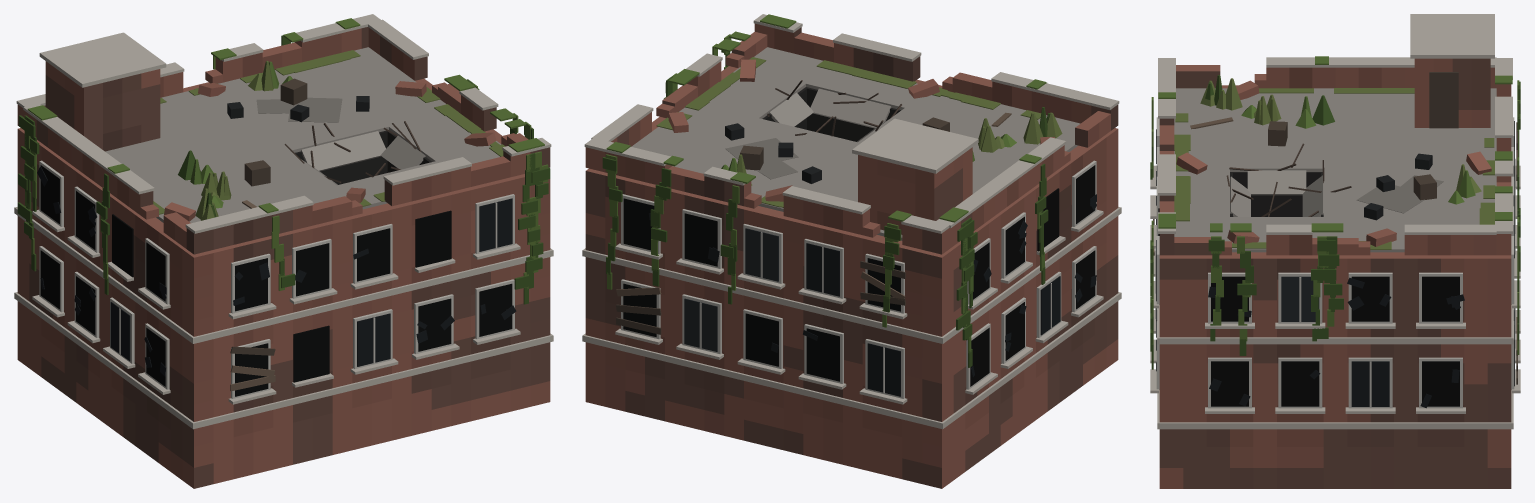
Rendered from building_brick_2f.glb.
3 renders of one model, left to right at view 1: azimuth 30°, elevation 25°; view 2: azimuth 150°, elevation 25°; view 3: azimuth 270°, elevation 25°, orthographic.
Parts seen in each view (by area): view 1: building_brick_2f; view 2: building_brick_2f; view 3: building_brick_2f.
Boxes of the visible parts, <box> form: building_brick_2f: <box>14,14,553,488</box>; building_brick_2f: <box>582,14,1121,488</box>; building_brick_2f: <box>1150,14,1520,488</box>.
Size of the model in its own units: 14.64 by 11.62 by 12.64.
